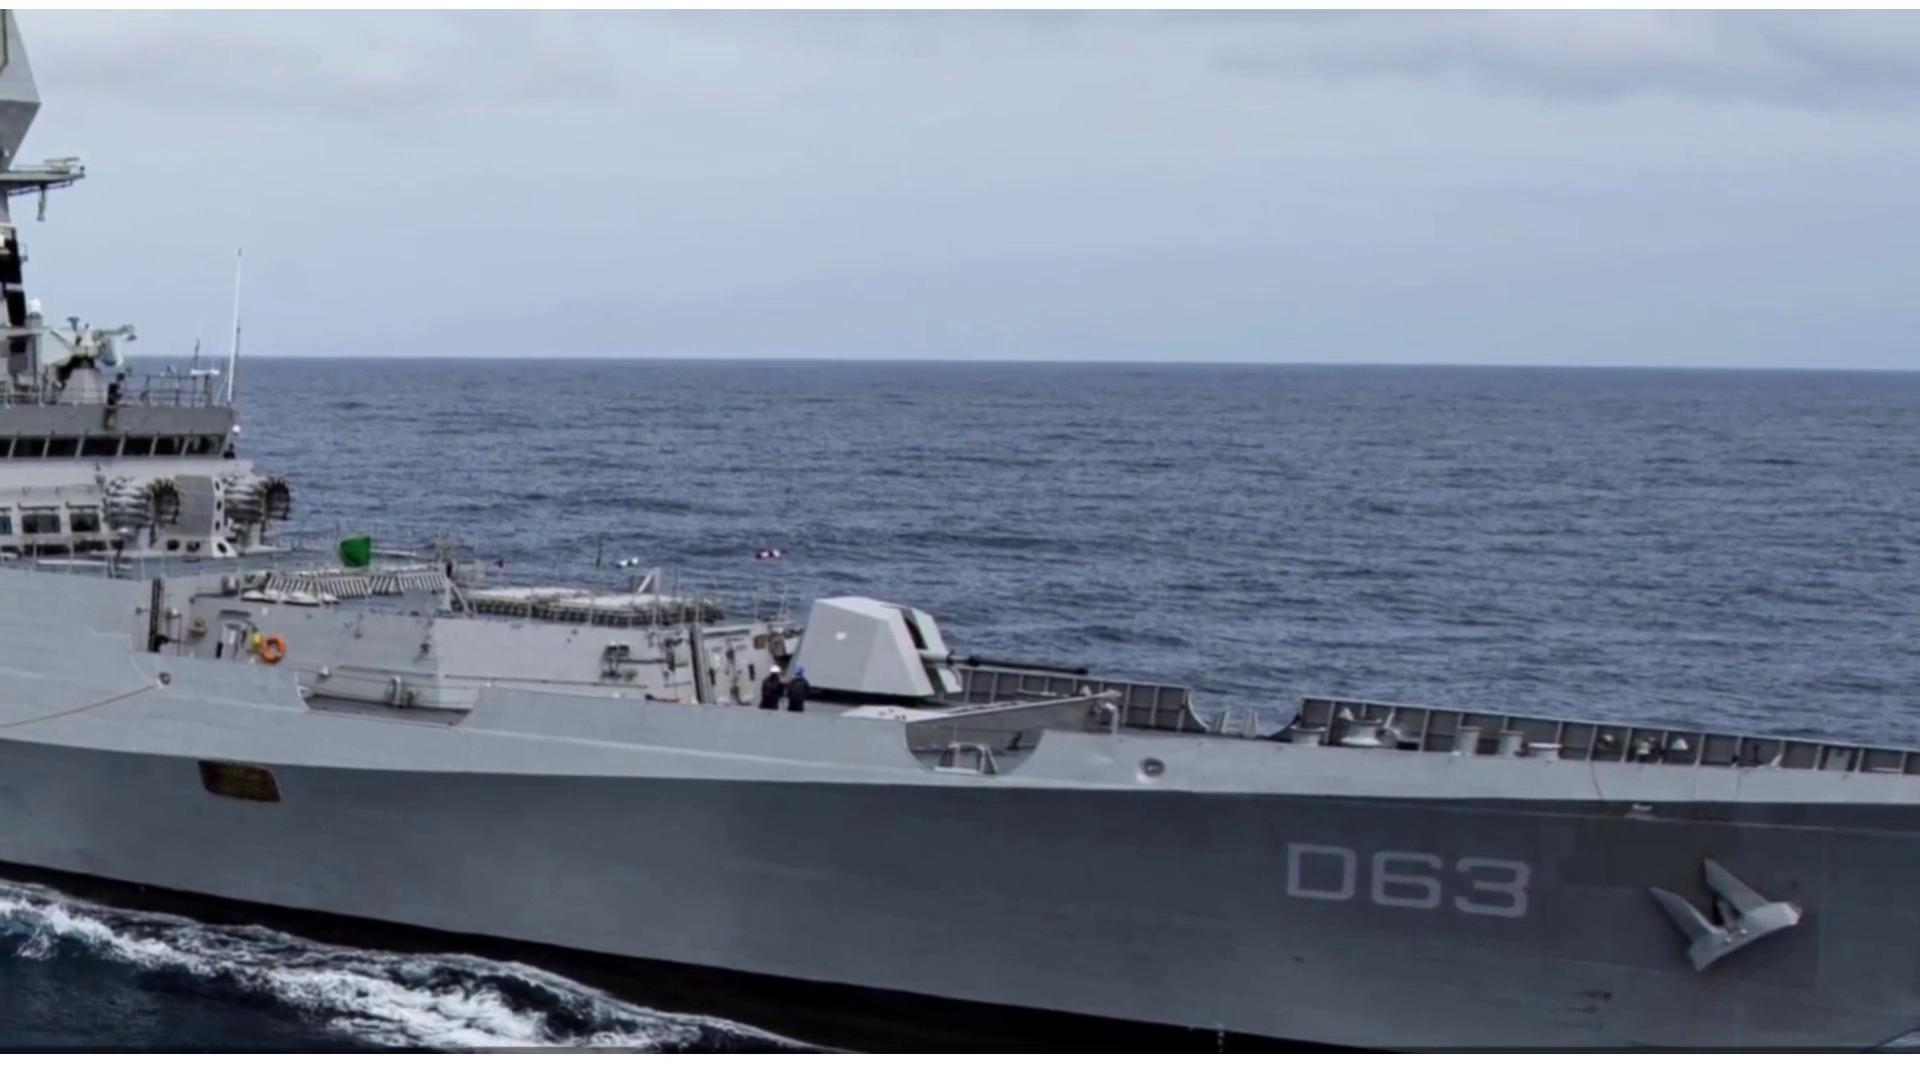OCR: (1280, 833, 1543, 930)
